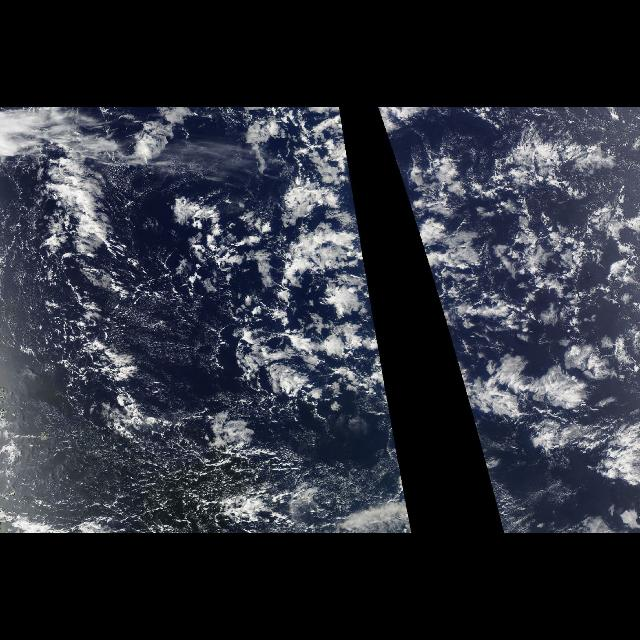Fish: (389, 148, 639, 406), (272, 148, 390, 406)
Flower: (426, 266, 640, 484), (276, 266, 404, 484)
Gravel: (28, 183, 346, 531)
Sugar: (116, 298, 218, 406)
